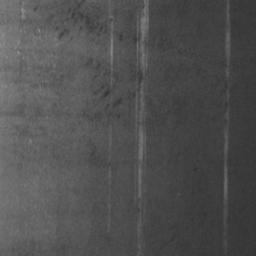Bright scratch: (137, 0, 150, 163), (224, 142, 230, 205), (225, 27, 232, 64)
